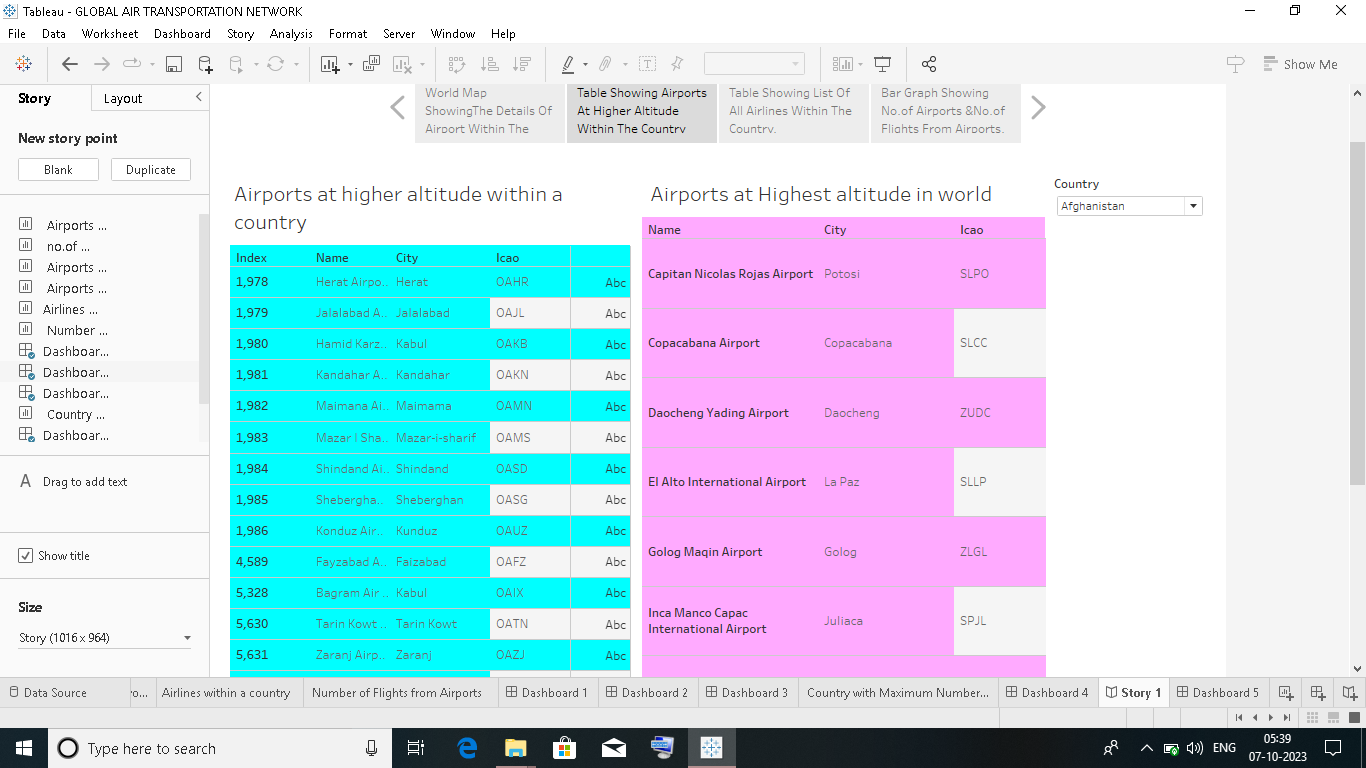

What the dashboard file says about the page in this screenshot:
{"tool":"tableau","page":{"name":"Dashboard 2","canvas":[1000,800],"ordinal":1},"visuals":[{"type":"worksheet","title":" Airports at higher altitude within a country","mark":"Automatic","rows":["index","Name","City","ICAO"],"box":[8,8,412,784]},{"type":"worksheet","title":" Airports at Highest altitude in world","mark":"Automatic","rows":["Name","City","ICAO"],"box":[420,8,412,784]},{"type":"filter","title":" Airports at higher altitude within a country","param":"[federated.1a1zrgq1lutcvu1c68p7n0bjfrti].[none:Country:nk]","box":[832,8,160,52]}]}

Visuals, with their boxes on the page's 1000x800 design canvas (x1, y1, x2, y2). These are canvas units, not pixel positions in the 1366x768 screenshot, which may show the page scaled, cropped or inside an application window:
" Airports at higher altitude within a country" worksheet: Rect(8, 8, 420, 792)
" Airports at Highest altitude in world" worksheet: Rect(420, 8, 832, 792)
" Airports at higher altitude within a country" filter: Rect(832, 8, 992, 60)
